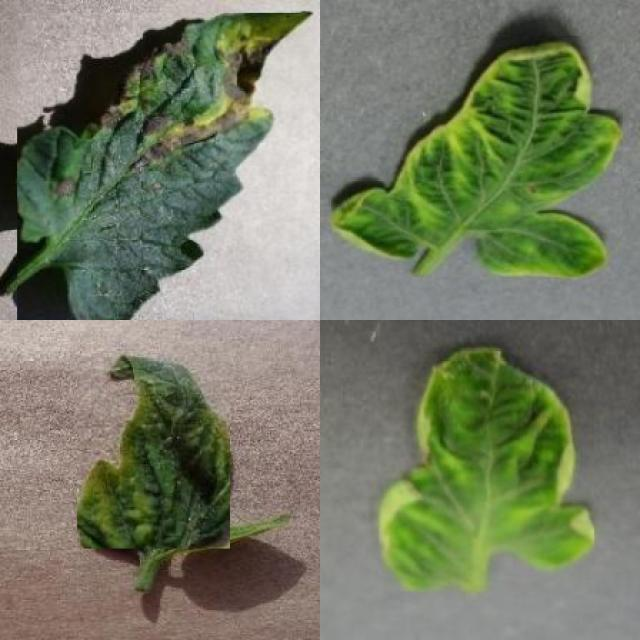Early Blight: (18, 13, 315, 320)
Yellow Leaf Curl Virus: (331, 36, 623, 277), (379, 347, 594, 592), (77, 354, 230, 549)
